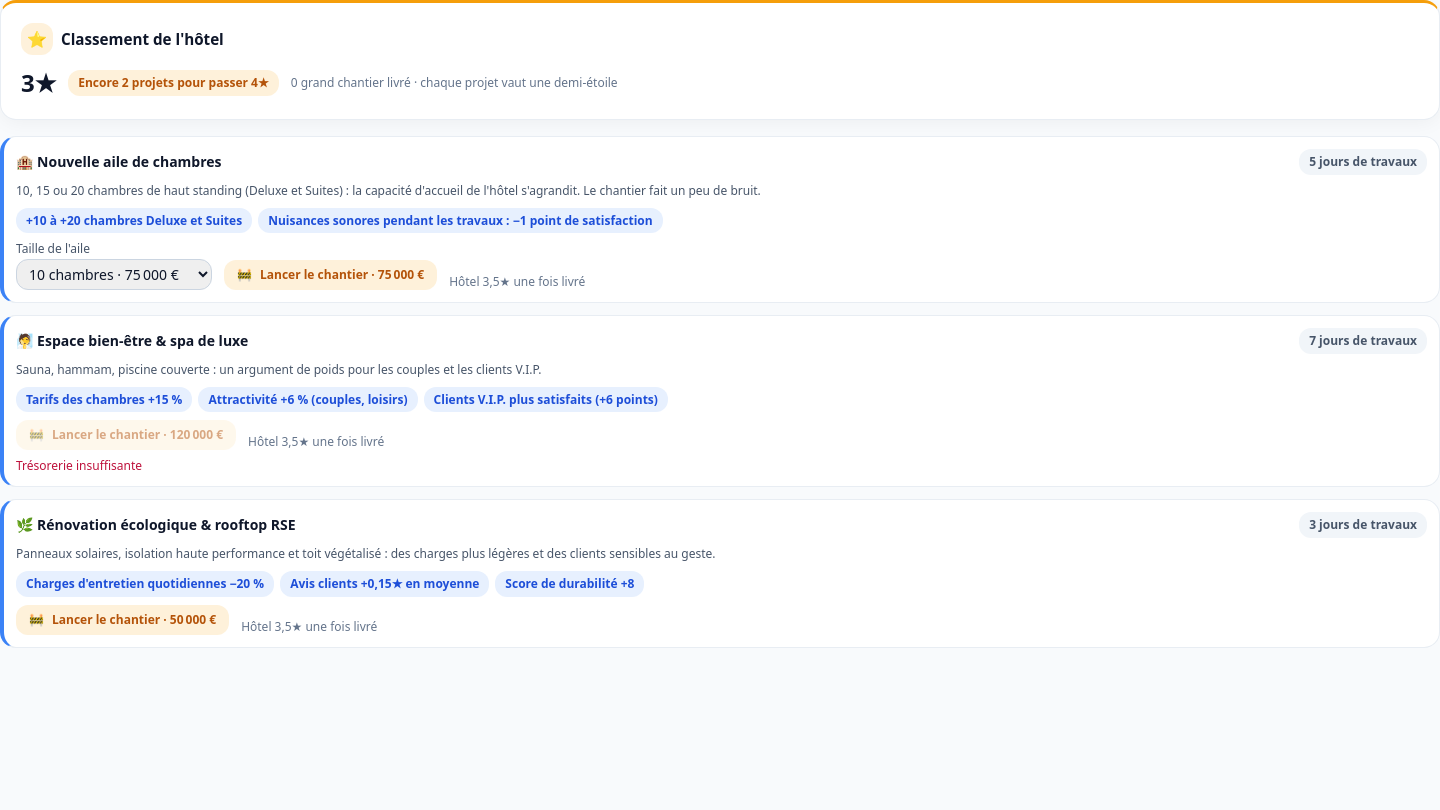
MajorProjectsPanel / the three projects › locks a wing too big for the treasury while a smaller one is still possible
This screenshot has width=1440, height=810.
Check: the button with test id "project-start-wing" is enabled, box top-left (224, 260), bottom-right (437, 290)
Select "20 chambres · 150 000 €" in the dropdown with test id "project-size-wing" at (114, 275), box top-left (16, 259), bottom-right (212, 290)
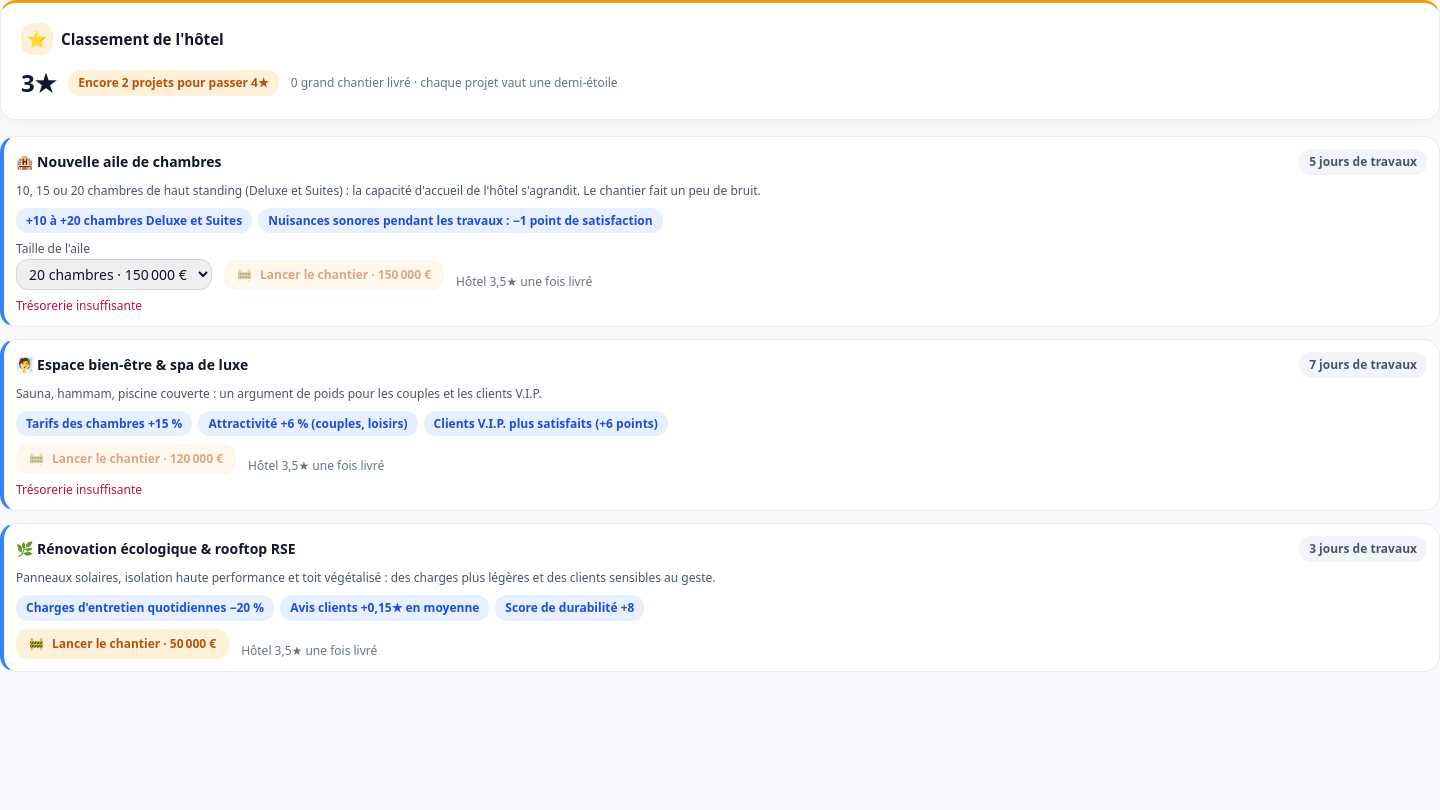
Check: the button with test id "project-start-wing" is disabled, box top-left (224, 260), bottom-right (444, 290)
Check: the text with test id "project-reason-wing" reads "Trésorerie insuffisante", box top-left (16, 297), bottom-right (142, 314)
